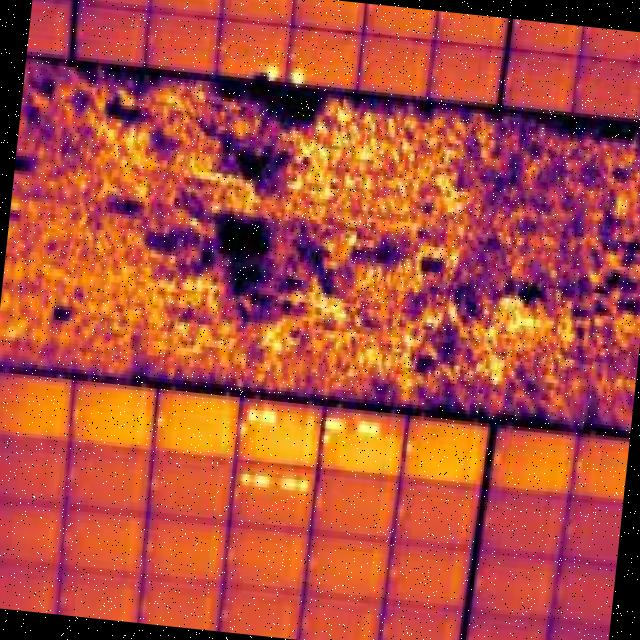Hotspot: (356, 420, 382, 437), (324, 416, 346, 434), (152, 414, 168, 433), (246, 408, 263, 424), (296, 476, 312, 492), (262, 65, 278, 81), (290, 68, 306, 84), (280, 478, 296, 493), (253, 474, 270, 488), (405, 440, 416, 459), (239, 470, 252, 486), (262, 410, 276, 422), (320, 434, 330, 446), (238, 422, 245, 438)
